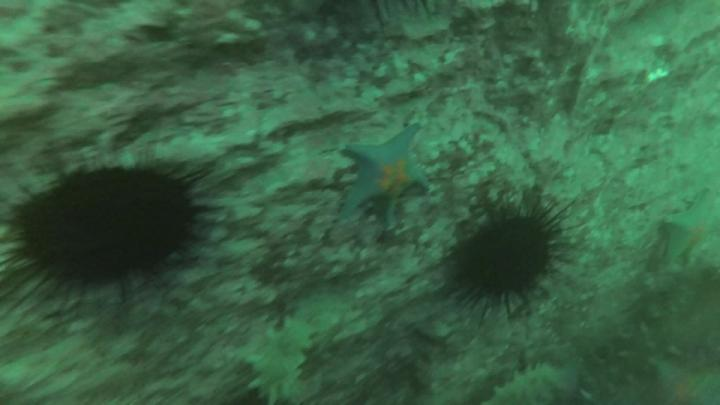echinus: (2, 146, 227, 319), (445, 191, 573, 323)
holothurian: (240, 315, 320, 405), (478, 364, 571, 405)
starfish: (331, 123, 433, 233), (658, 181, 720, 275), (650, 360, 720, 405)
